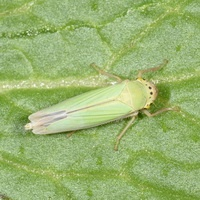insect: (25, 59, 178, 149)
